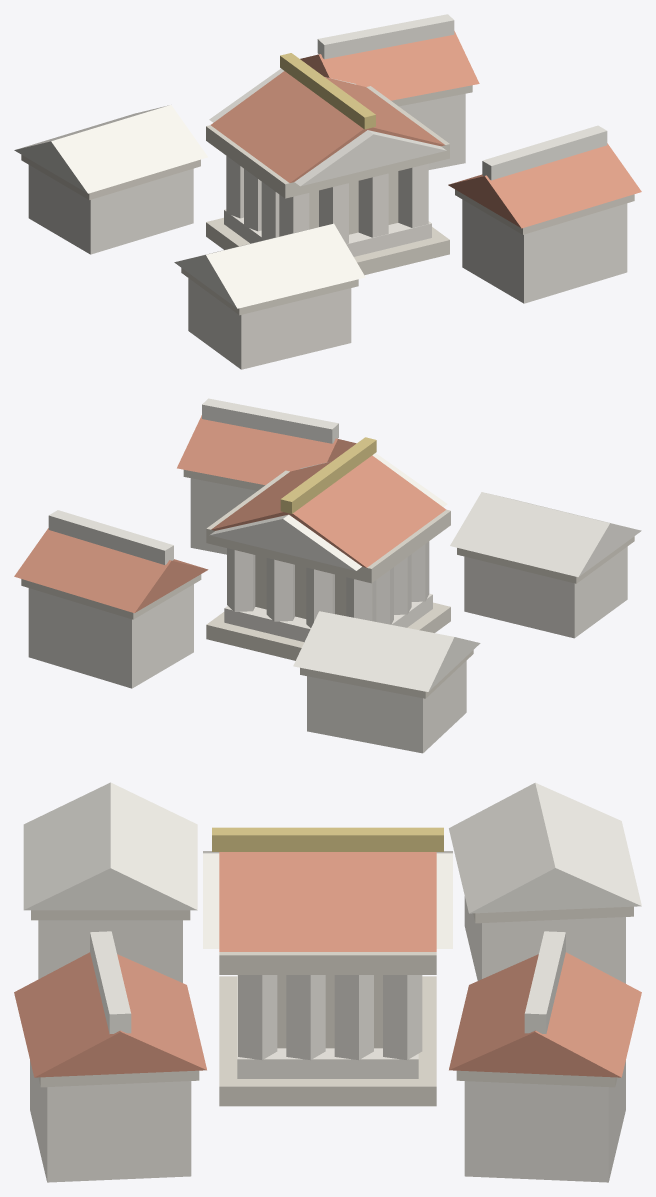
Rendered from town.glb.
3 renders of one model, top to bottom at view 1: azimuth 30°, elevation 25°; view 2: azimuth 150°, elevation 25°; view 3: azimuth 270°, elevation 25°, orthographic. The views are drawn at different scales.
Visible parts, largest first — view 1: classical_town; view 2: classical_town; view 3: classical_town.
Part boxes in pixels (x1=…): classical_town: x1=14, y1=14, x2=641, y2=369; classical_town: x1=14, y1=398, x2=641, y2=753; classical_town: x1=14, y1=782, x2=641, y2=1182.
Bounding box in the file's own units: 0.9026 × 0.3342 × 0.8668.
